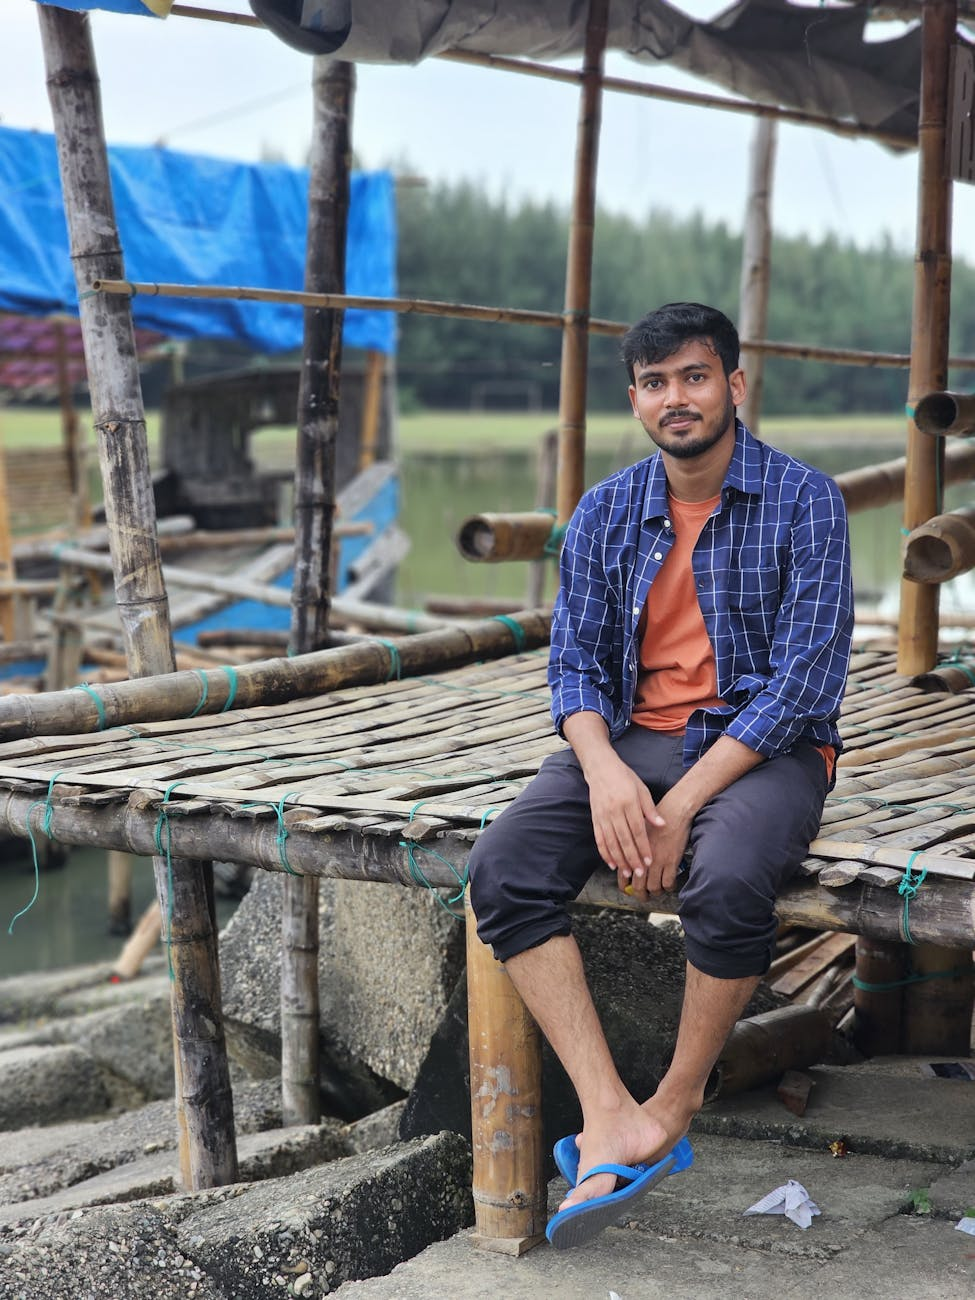opened_foot: (542, 1117, 702, 1251)
shorts: (457, 723, 846, 979)
